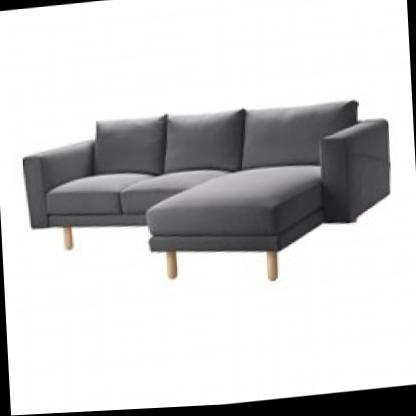Sofa: (13, 61, 400, 318)
